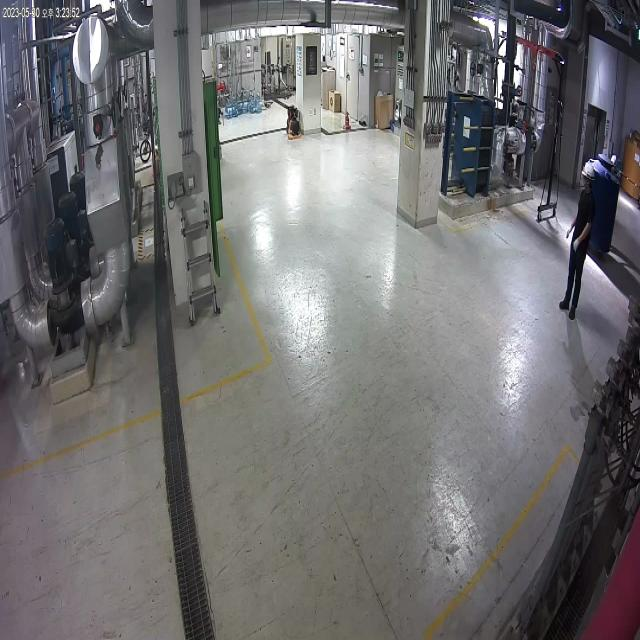Water Tank: (582, 154, 624, 261)
worker: (554, 150, 600, 331)
